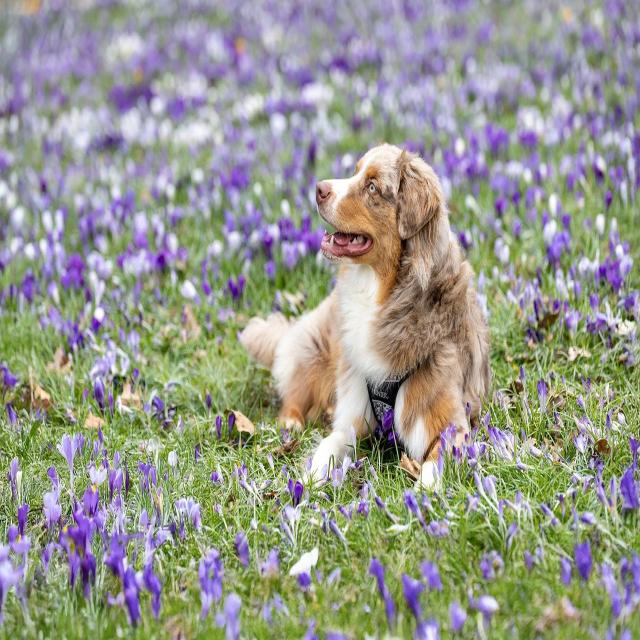dog: (238, 139, 494, 466)
